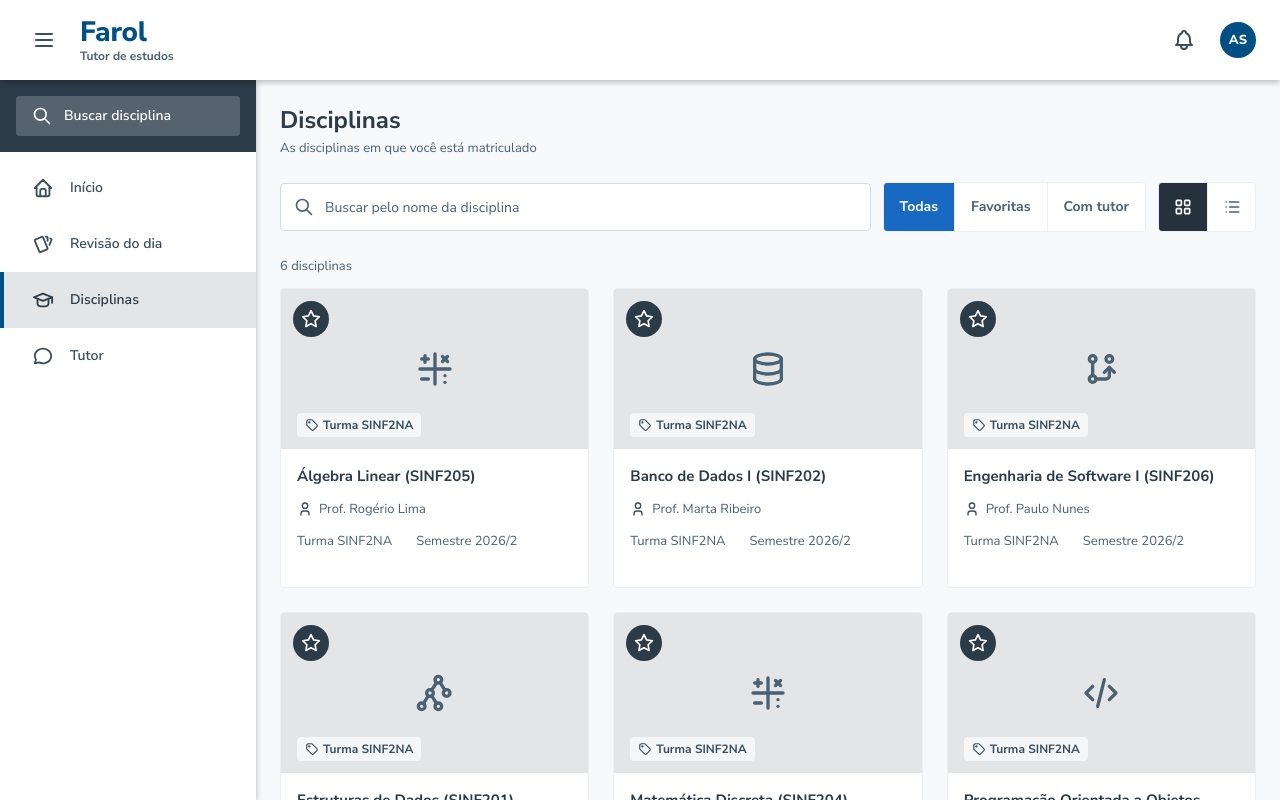
Scenario: tela de disciplinas (ACE-T33) › busca sem resultado avisa que nada foi encontrado
The image size is (1280, 800).
Expected: the list named "Disciplinas" is shown, [280,288,1256,799]
In the search field named "Buscar disciplina": [575, 207] box [280,183,870,231], type "culinaria"
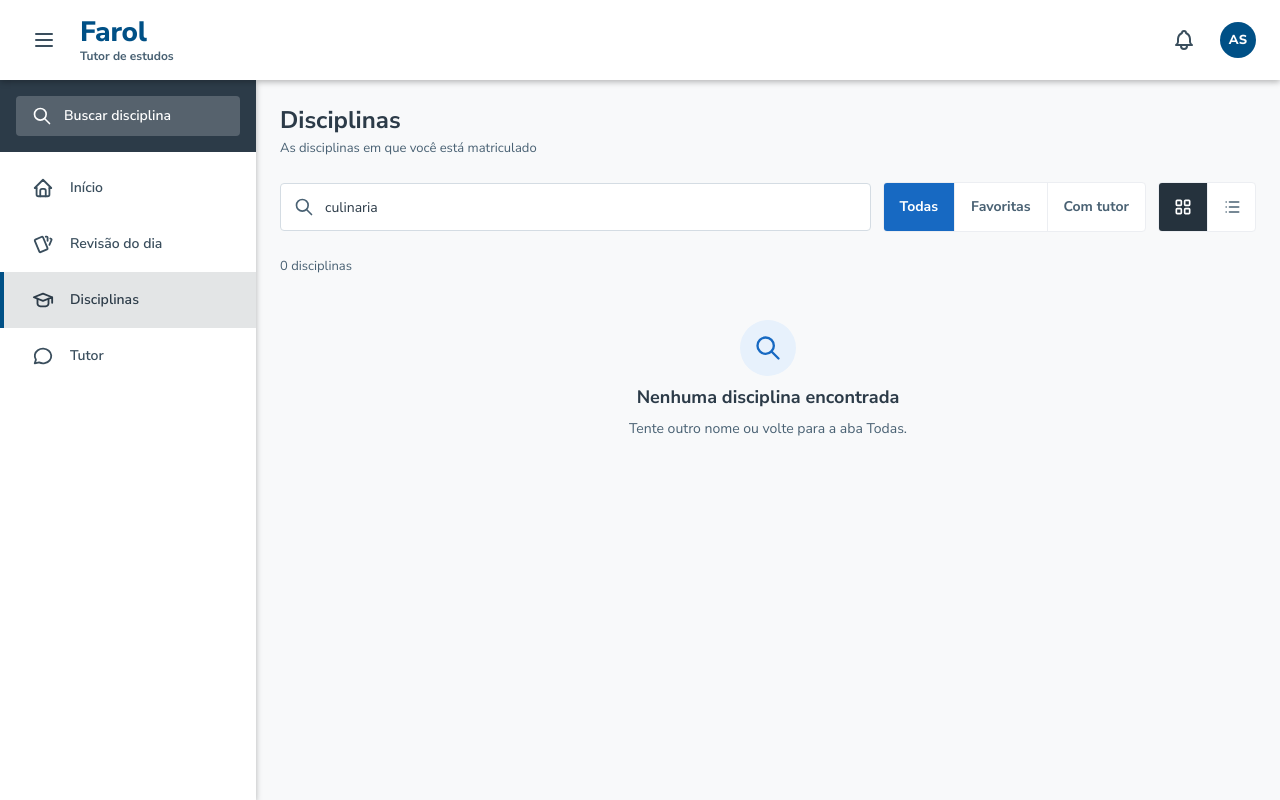
Now the heading "Nenhuma disciplina encontrada" is shown, box [637,384,899,410]
